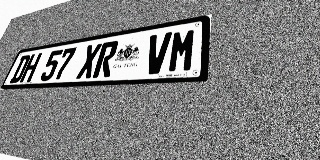5: (39, 49, 63, 81)
7: (52, 47, 77, 81)
D: (9, 55, 32, 83)
H: (19, 53, 42, 83)
M: (167, 28, 197, 73)
R: (92, 40, 119, 78)
V: (143, 32, 172, 75)
X: (76, 43, 102, 79)
